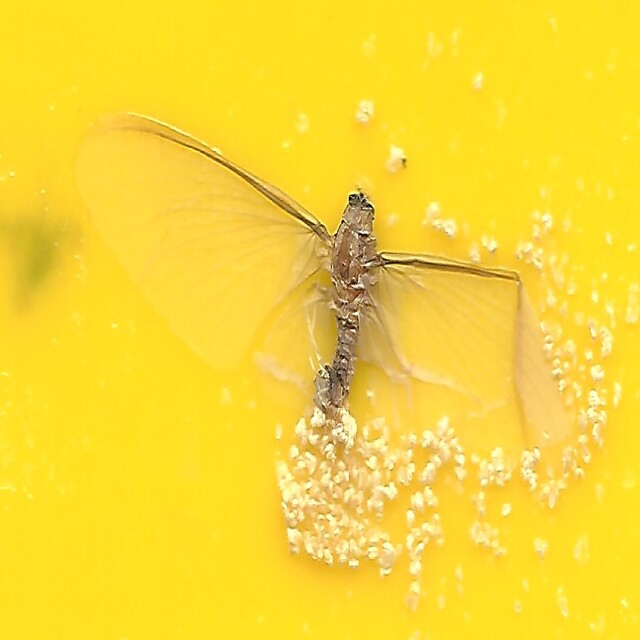Ephemeroptera: (60, 109, 580, 531)
